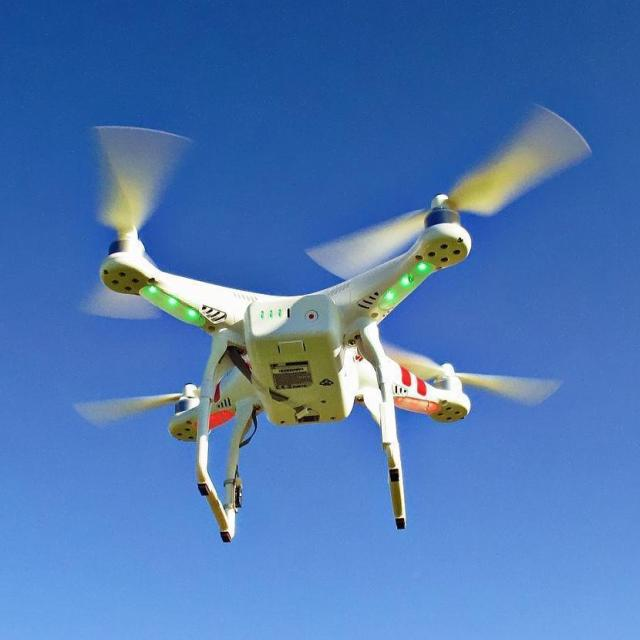UAV: (96, 194, 487, 540)
